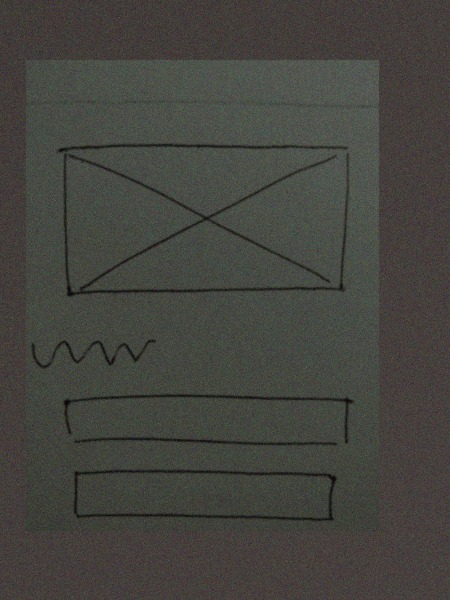image: (49, 133, 364, 313)
text: (28, 335, 160, 374)
text_input: (57, 388, 358, 454), (66, 464, 343, 528)
